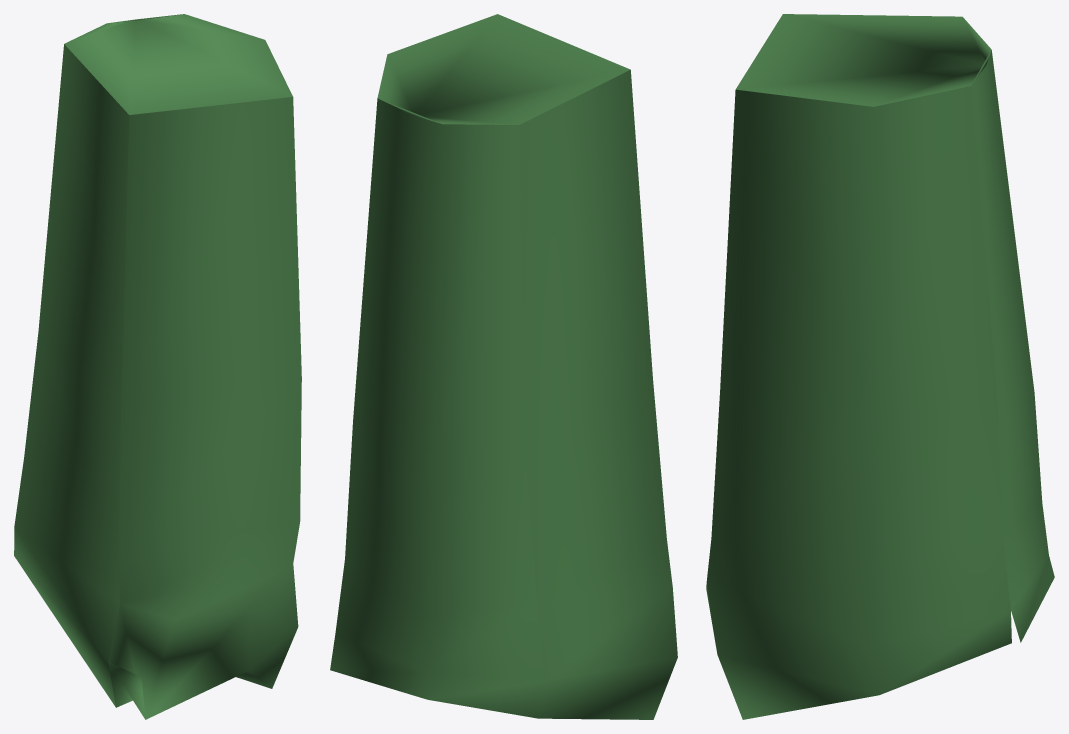
File: left_forearm.glb
The picture shows the model from 3 angles, left to right: view 1: azimuth 30°, elevation 25°; view 2: azimuth 150°, elevation 25°; view 3: azimuth 270°, elevation 25°; orthographic projection. The views are drawn at different scales.
Parts seen in each view (by area): view 1: sweater-green_LEFT_FOREARM; view 2: sweater-green_LEFT_FOREARM; view 3: sweater-green_LEFT_FOREARM.
Boxes of the visible parts, x1,y1,x2,y2 form: sweater-green_LEFT_FOREARM: (14,14,301,719); sweater-green_LEFT_FOREARM: (330,14,677,719); sweater-green_LEFT_FOREARM: (706,14,1054,719).
Bounding box in the file's own units: 0.1163 × 0.2889 × 0.1398.
1 material, 1 textured.
